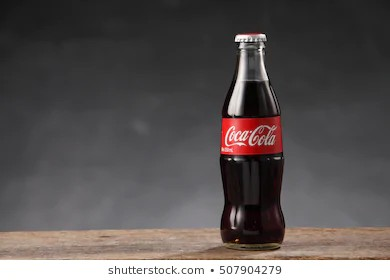coke-glass-bottle: (219, 29, 288, 251)
